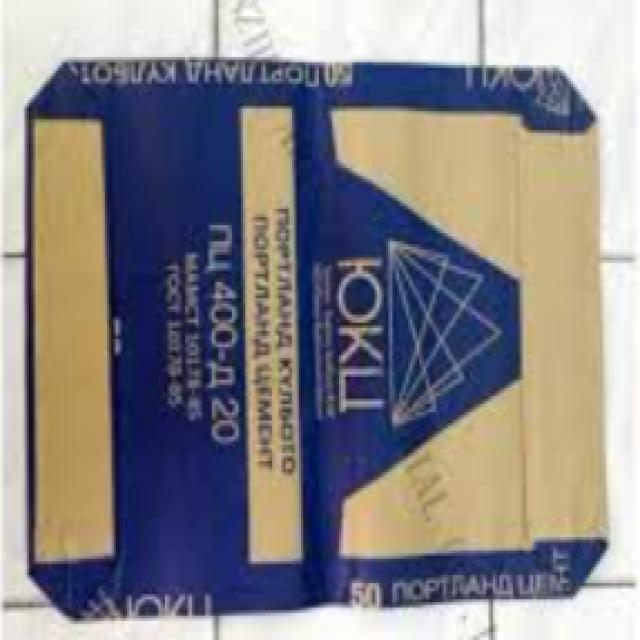KantongSemen: (22, 54, 607, 624)
